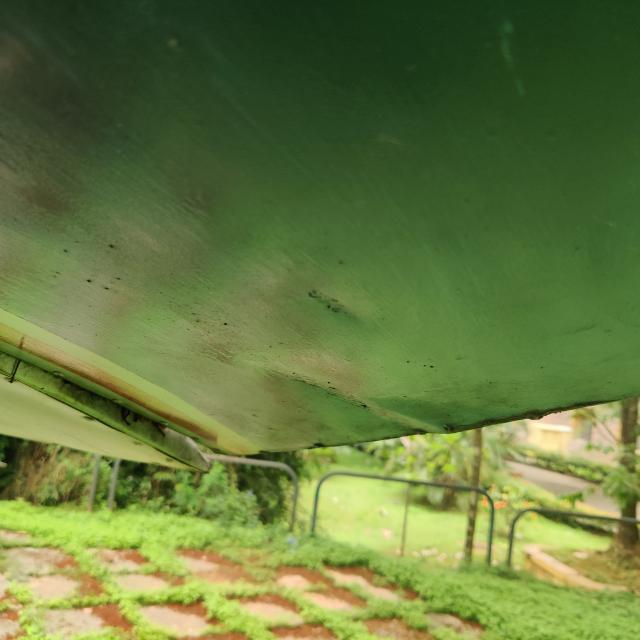dent: (239, 328, 480, 460), (286, 252, 388, 346)
